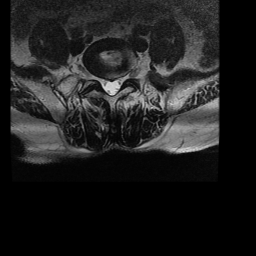CCS_normal: (108, 72, 114, 100)
LFS_stenosis: (121, 65, 129, 86)
LLS_normal: (114, 69, 121, 96)
RFS_stenosis: (94, 68, 101, 87)
RLS_normal: (101, 70, 108, 98)
